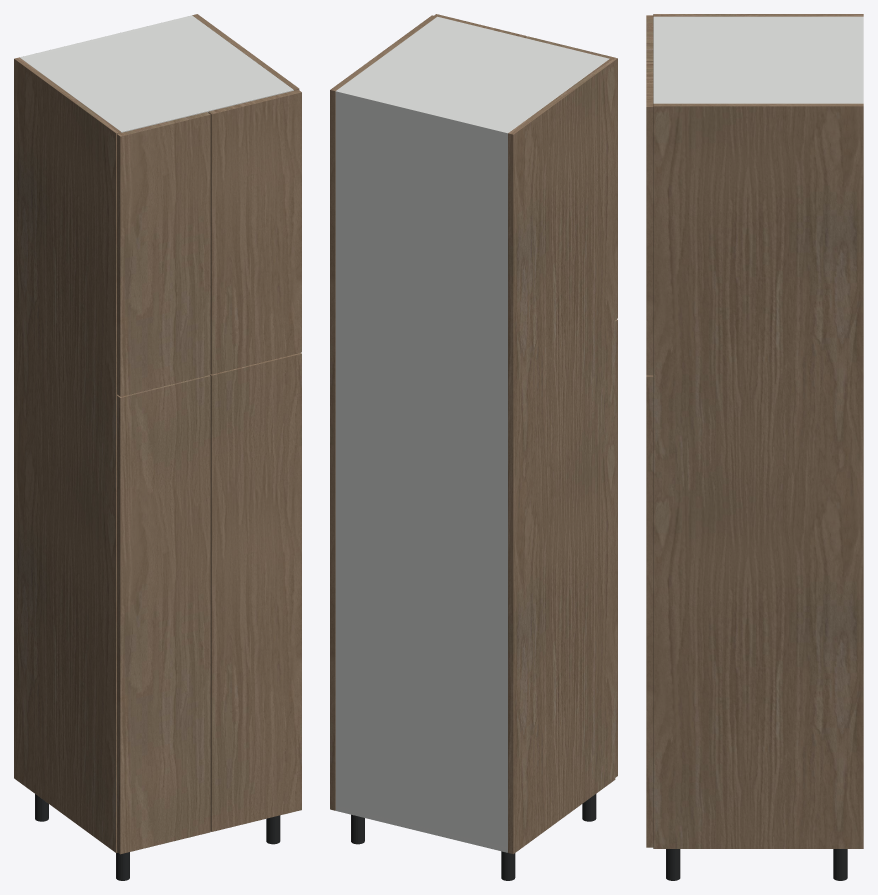
File: oppein-pb-mnw-pc2490.glb
3 renders of one model, left to right at view 1: azimuth 30°, elevation 25°; view 2: azimuth 150°, elevation 25°; view 3: azimuth 270°, elevation 25°, orthographic. The views are drawn at different scales.
Parts seen in each view (by area): view 1: Cabinet side, Door, Door.001, Door.002, Door.003, Cabinet top, Cabinet side.001; view 2: Cabinet back, Cabinet side, Cabinet top, Cabinet side.001, Door, Door.002; view 3: Cabinet side.001, Cabinet top, Door.001, Door.003, Cabinet side, Adjustable foot.003, Adjustable foot.002.
Part boxes in pixels (<box>): Cabinet side: <box>14,57,121,852</box>; Door: <box>117,375,210,854</box>; Door.001: <box>210,353,301,831</box>; Door.002: <box>117,112,210,396</box>; Door.003: <box>208,89,301,374</box>; Cabinet top: <box>21,16,293,132</box>; Cabinet side.001: <box>192,14,299,90</box>; Cabinet back: <box>335,89,509,852</box>; Cabinet side: <box>508,59,615,854</box>; Cabinet top: <box>336,16,609,131</box>; Cabinet side.001: <box>330,15,436,810</box>; Door: <box>615,319,617,777</box>; Door.002: <box>525,36,617,319</box>; Cabinet side.001: <box>653,103,863,848</box>; Cabinet top: <box>653,16,859,103</box>; Door.001: <box>646,375,653,847</box>; Door.003: <box>646,61,653,375</box>; Cabinet side: <box>653,14,863,16</box>; Adjustable foot.003: <box>666,849,680,880</box>; Adjustable foot.002: <box>833,849,847,880</box>.
Bounding box in the file's own units: 0.6096 × 2.4 × 0.6064.
3 materials, 1 textured.
